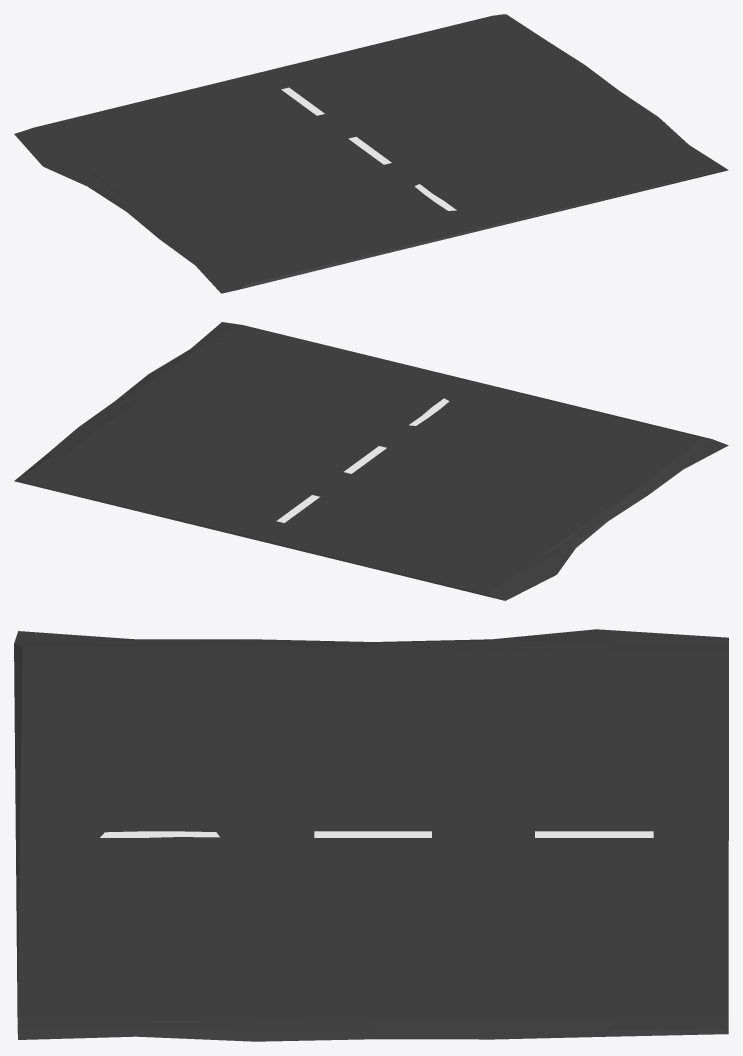
The model's file is Estrada5.fbx.
The picture shows the model from 3 angles, top to bottom: view 1: azimuth 30°, elevation 25°; view 2: azimuth 150°, elevation 25°; view 3: azimuth 270°, elevation 25°; orthographic projection. The views are drawn at different scales.
Visible parts, largest first — view 1: Cube.003; view 2: Cube.003; view 3: Cube.003.
Part boxes in pixels (box(x1,y1,x2,y2)): Cube.003: box(14, 14, 728, 293); Cube.003: box(14, 322, 728, 600); Cube.003: box(14, 629, 728, 1041).
Size of the model in its own units: 5761 by 27.13 by 4222.
